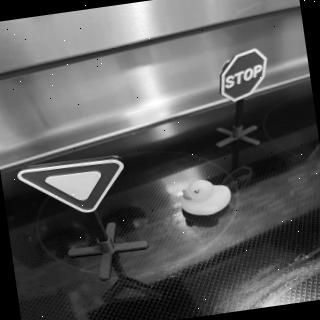duck_regular: (177, 175, 235, 221)
sign_stop: (216, 46, 275, 105)
sign_yield: (17, 153, 132, 224)
